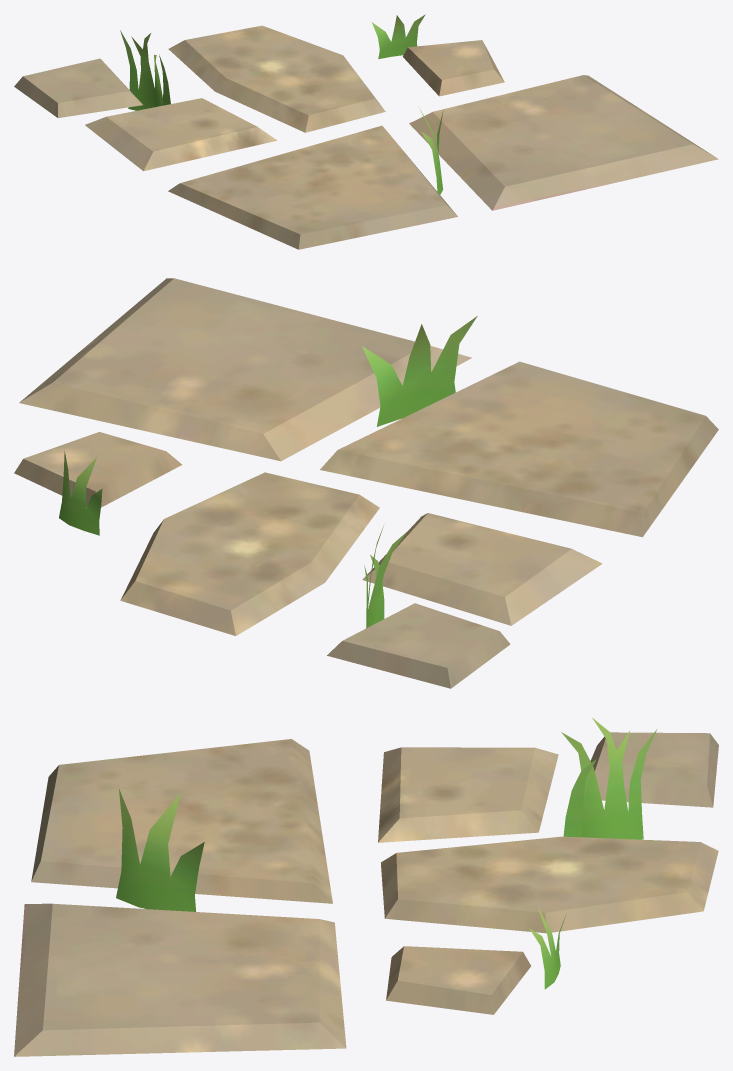
Rendered from Misc_StonePath1.fbx.
3 renders of one model, top to bottom at view 1: azimuth 30°, elevation 25°; view 2: azimuth 150°, elevation 25°; view 3: azimuth 270°, elevation 25°, orthographic. The views are drawn at different scales.
Visible parts, largest first — view 1: stonepath1; view 2: stonepath1; view 3: stonepath1.
Boxes of the visible parts, x1,y1,x2,y2 form: stonepath1: [14, 14, 718, 249]; stonepath1: [14, 278, 718, 688]; stonepath1: [14, 718, 718, 1056].
Size of the model in its own units: 2.48 by 0.4909 by 2.37.
